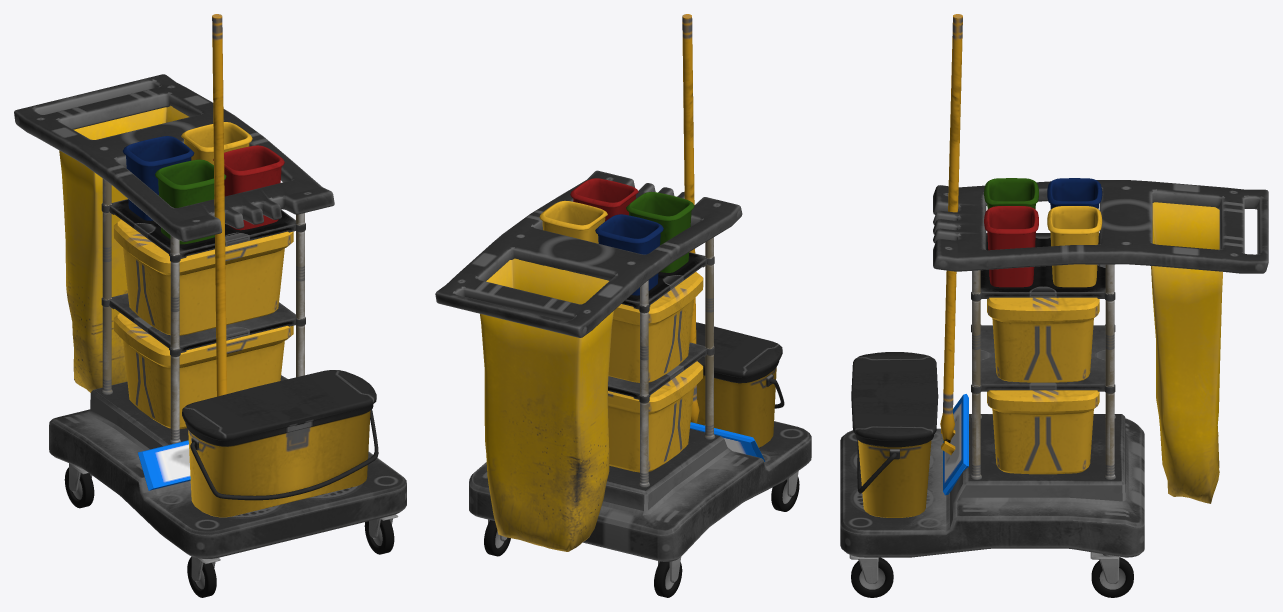
The model's file is cleaning_cart.glb.
3 views of the same model, side by side, from view 1: azimuth 30°, elevation 25°; view 2: azimuth 150°, elevation 25°; view 3: azimuth 270°, elevation 25° (orthographic). The views are drawn at different scales.
Visible parts, largest first — view 1: CT_CartBody; view 2: CT_CartBody; view 3: CT_CartBody.
Boxes of the visible parts, x1,y1,x2,y2 form: CT_CartBody: (14, 14, 406, 597); CT_CartBody: (435, 14, 811, 597); CT_CartBody: (840, 14, 1268, 597).
Bounding box in the file's own units: 3.33 × 7.75 × 5.75.
1 material, 1 textured.
